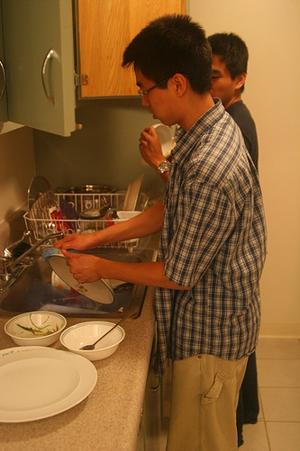person: (53, 10, 267, 451)
